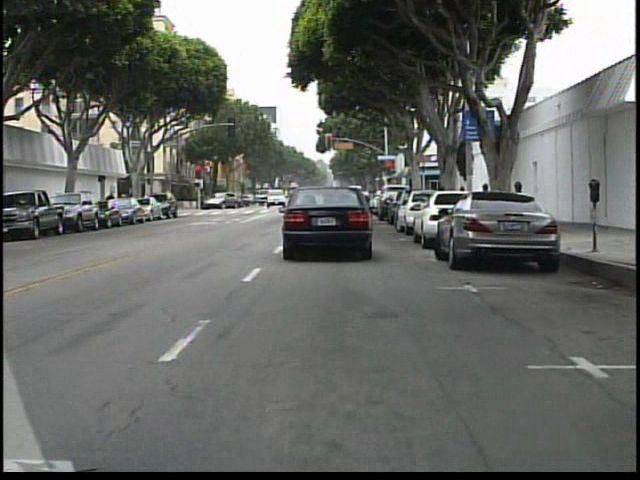person: (105, 189, 120, 220), (196, 189, 211, 213)
